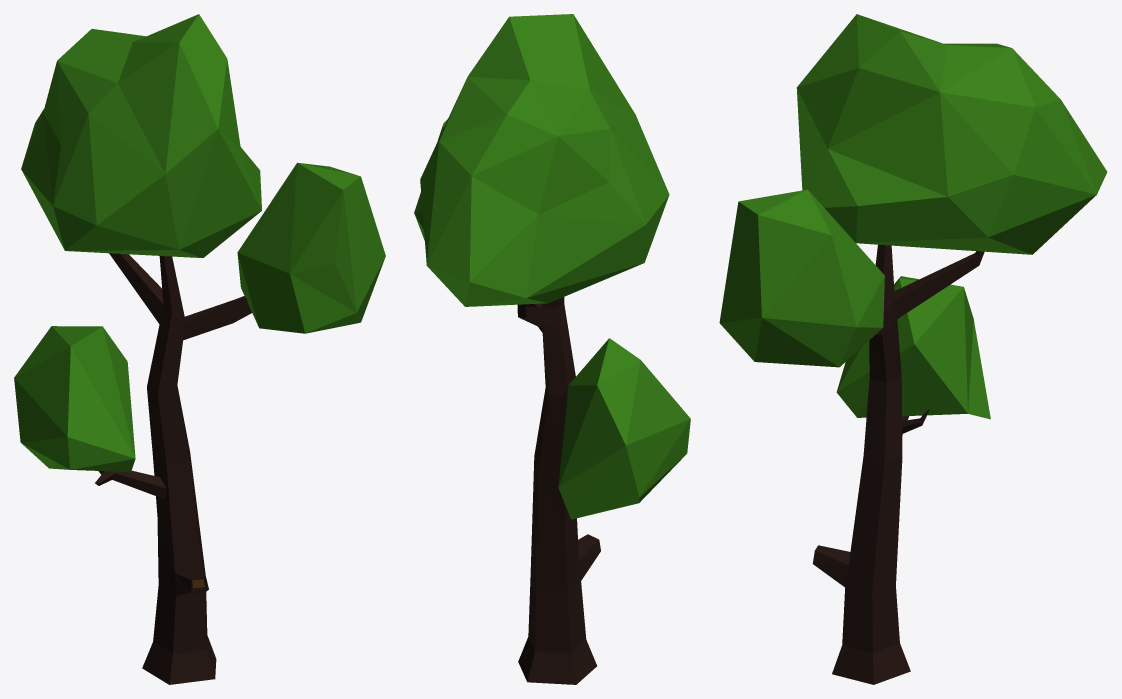
Rendered from tree_lvl_1.obj.
3 renders of one model, left to right at view 1: azimuth 30°, elevation 25°; view 2: azimuth 150°, elevation 25°; view 3: azimuth 270°, elevation 25°, orthographic. The views are drawn at different scales.
Parts seen in each view (by area): view 1: Tree2_2_Cylinder.011; view 2: Tree2_2_Cylinder.011; view 3: Tree2_2_Cylinder.011.
Boxes of the visible parts, left/top/right/bottom form: Tree2_2_Cylinder.011: left=14, top=14, right=385, bottom=684; Tree2_2_Cylinder.011: left=414, top=14, right=690, bottom=684; Tree2_2_Cylinder.011: left=719, top=14, right=1107, bottom=684.
Bounding box in the file's own units: 4.12 × 9.17 × 4.95.
